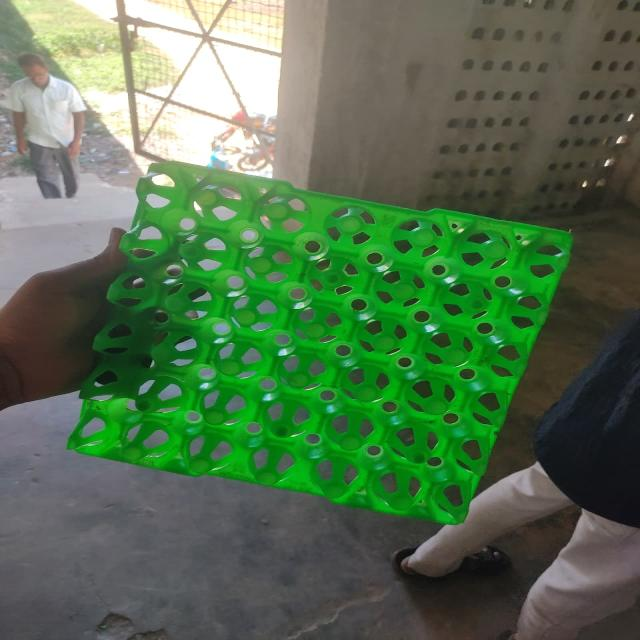egg_tray: (72, 163, 569, 521), (160, 176, 165, 179), (197, 168, 201, 171)
